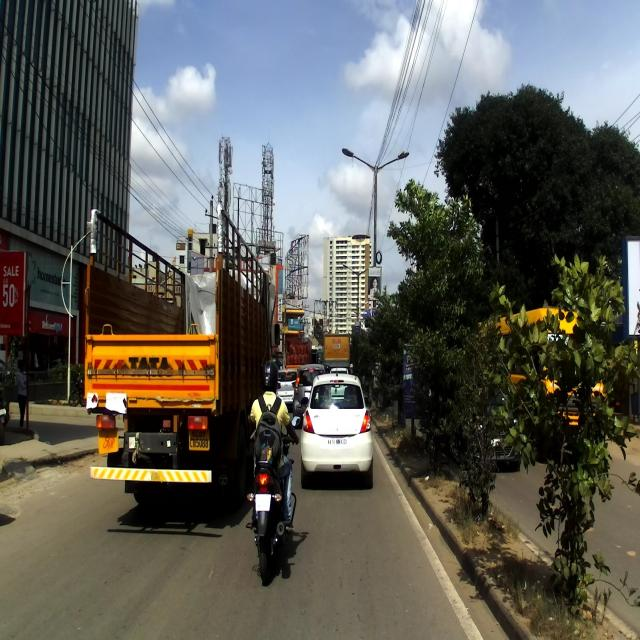car: (300, 364, 374, 488)
motorcycle: (247, 415, 301, 584)
truck: (80, 202, 280, 512)
